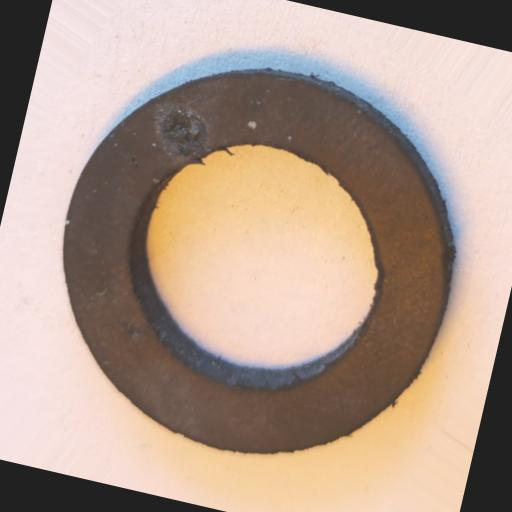defect: (144, 100, 212, 162), (118, 318, 144, 340)
